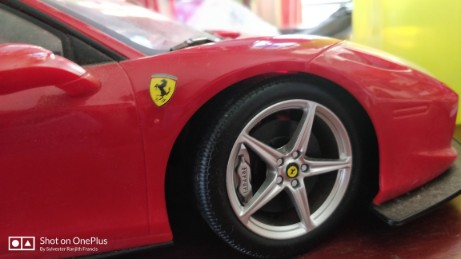unaligned_wheel: (205, 76, 381, 252)
